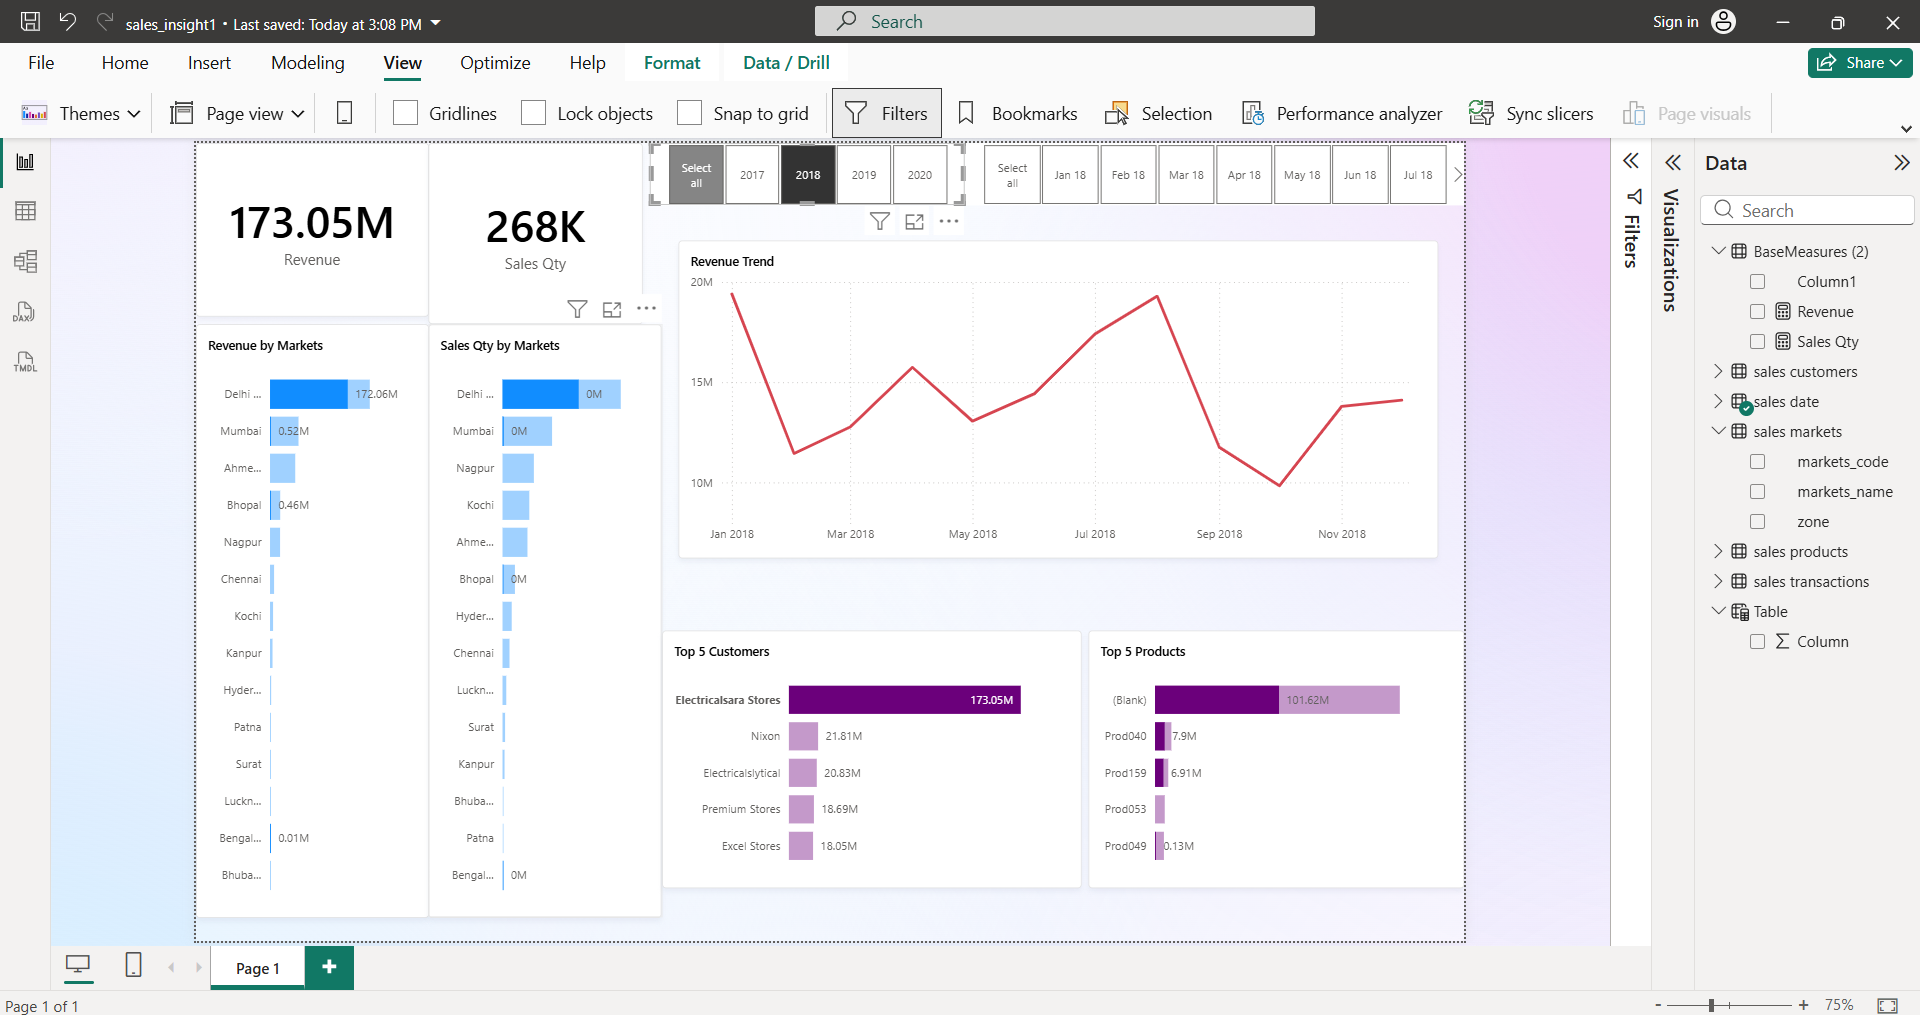

What the dashboard file says about the page in this screenshot:
{"tool":"powerbi","page":{"name":"Page 1","canvas":[1350,850],"ordinal":0},"visuals":[{"type":"card","fields":{"Values":["BaseMeasures (2).Revenue"]},"box":[0,0,247.9,184.6],"z":0},{"type":"card","fields":{"Values":["BaseMeasures (2).Sales Qty"]},"box":[247.9,0,227.9,193.1],"z":1000},{"type":"barChart","title":"Revenue by Markets","fields":{"Y":["BaseMeasures (2).Revenue"],"Category":["sales markets.markets_name"]},"box":[0,193.1,247.9,631.9],"z":2000},{"type":"barChart","title":"Sales Qty by Markets","fields":{"Y":["BaseMeasures (2).Sales Qty"],"Category":["sales markets.markets_name"]},"box":[247.9,193.1,247.9,631.9],"z":3000},{"type":"slicer","fields":{"Values":["sales date.year"]},"box":[483.2,0,335.5,66.5],"z":4000},{"type":"slicer","fields":{"Values":["sales date.cy_date"]},"box":[818.6,0,531.7,66.5],"z":5000},{"type":"barChart","title":"Top 5 Customers","fields":{"Y":["BaseMeasures (2).Revenue"],"Category":["sales customers.custmer_name"]},"box":[495.8,519,446.2,274.3],"z":6000},{"type":"barChart","title":"Top 5 Products","fields":{"Y":["BaseMeasures (2).Revenue"],"Category":["sales products.product_code"]},"box":[950.5,519,399.8,274.3],"z":7000},{"type":"lineChart","title":"Revenue Trend","fields":{"Y":["BaseMeasures (2).Revenue"],"Category":["sales date.cy_date"]},"box":[513.8,104.4,809.1,338.6],"z":8000}]}

Visuals, with their boxes in screenshot pixels (x1, y1, x2, y2):
card - BaseMeasures (2).Revenue: detection(220, 35, 502, 245)
card - BaseMeasures (2).Sales Qty: detection(502, 35, 760, 254)
"Revenue by Markets" barChart: detection(220, 254, 502, 972)
"Sales Qty by Markets" barChart: detection(502, 254, 783, 972)
slicer - sales date.year: detection(769, 35, 1150, 111)
slicer - sales date.cy_date: detection(1150, 35, 1754, 111)
"Top 5 Customers" barChart: detection(783, 625, 1290, 936)
"Top 5 Products" barChart: detection(1300, 625, 1754, 936)
"Revenue Trend" lineChart: detection(804, 154, 1723, 538)
